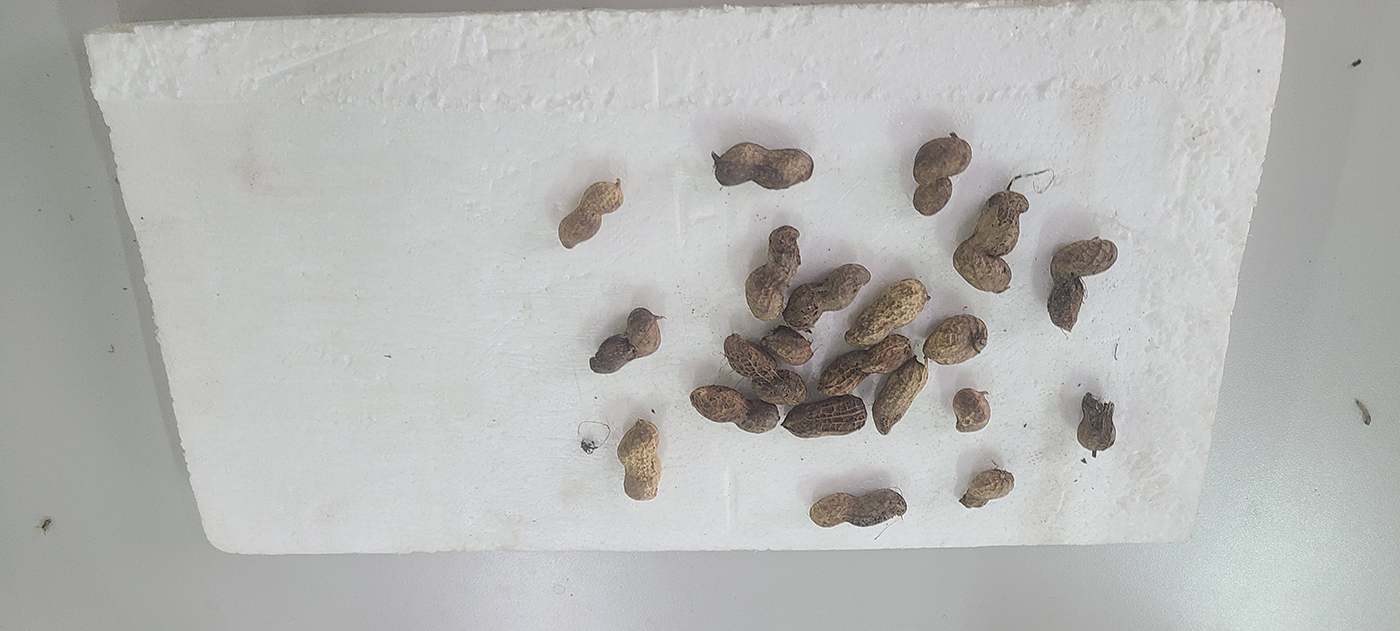l: (953, 190, 1029, 292), (1047, 236, 1117, 333), (783, 263, 871, 330), (724, 334, 807, 405), (844, 279, 927, 349), (817, 333, 913, 393), (745, 225, 801, 322), (713, 142, 813, 190), (913, 135, 973, 215), (590, 308, 662, 374), (559, 181, 624, 250), (690, 385, 781, 432), (872, 359, 927, 434), (810, 488, 908, 528), (616, 420, 663, 500), (783, 394, 867, 438), (923, 315, 988, 366), (1076, 393, 1117, 449), (959, 468, 1015, 509), (761, 325, 814, 365), (954, 388, 991, 432)
